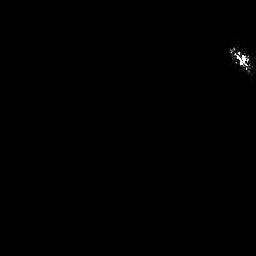ship: (228, 46, 250, 72)
